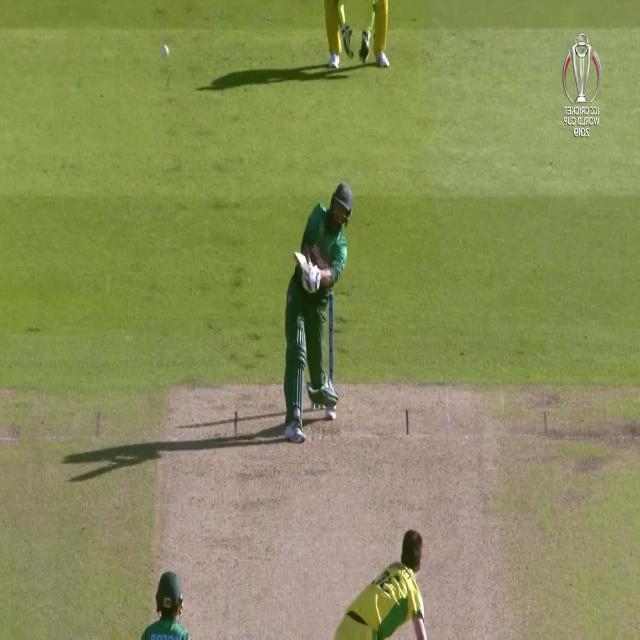ball: (159, 43, 170, 58)
